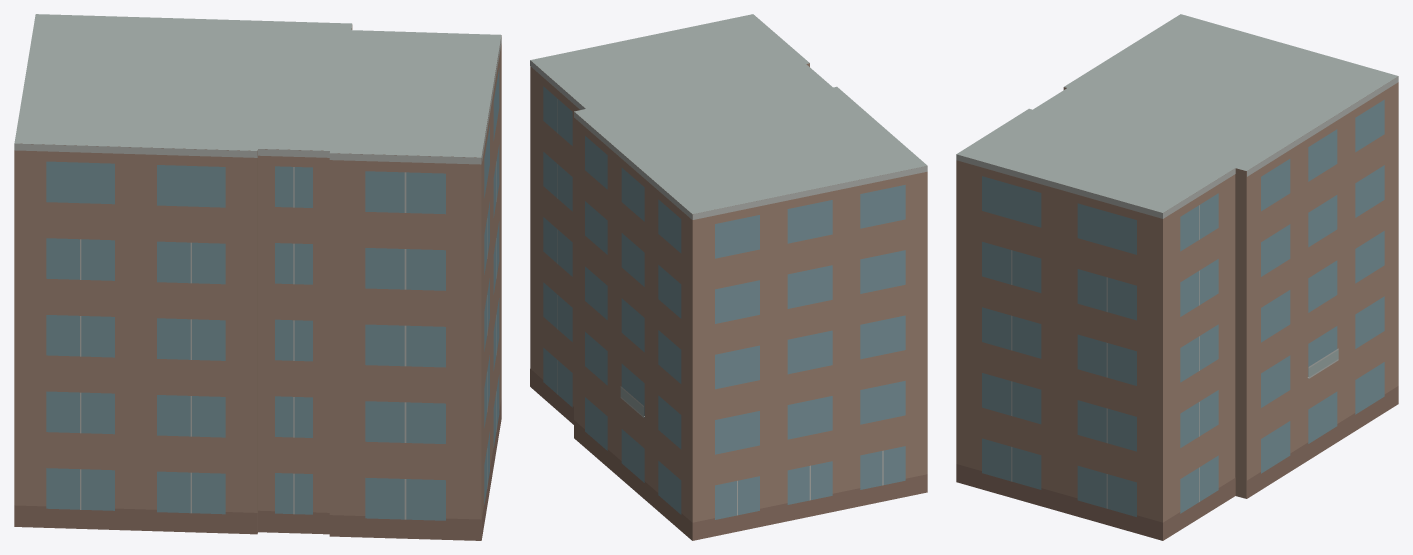
File: survey-upis-33004565.glb
The picture shows the model from 3 angles, left to right: view 1: azimuth 30°, elevation 25°; view 2: azimuth 150°, elevation 25°; view 3: azimuth 270°, elevation 25°; orthographic projection. The views are drawn at different scales.
Parts seen in each view (by area): view 1: survey-upis-33004565.tmp; view 2: survey-upis-33004565.tmp; view 3: survey-upis-33004565.tmp.
Boxes of the visible parts, x1,y1,x2,y2 form: survey-upis-33004565.tmp: (14,14,501,540); survey-upis-33004565.tmp: (530,14,927,540); survey-upis-33004565.tmp: (956,14,1398,540).
Bounding box in the file's own units: 17.58 × 13.5 × 16.52.
